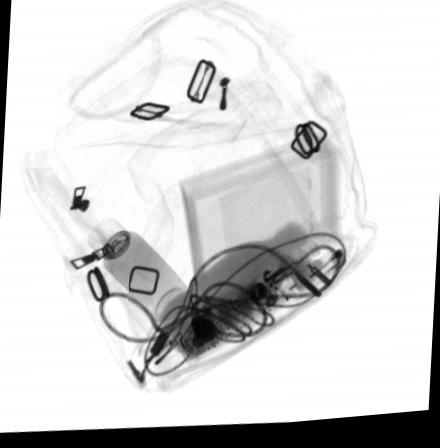Lighter: (255, 242, 324, 298)
Sprayer: (86, 219, 194, 333)
